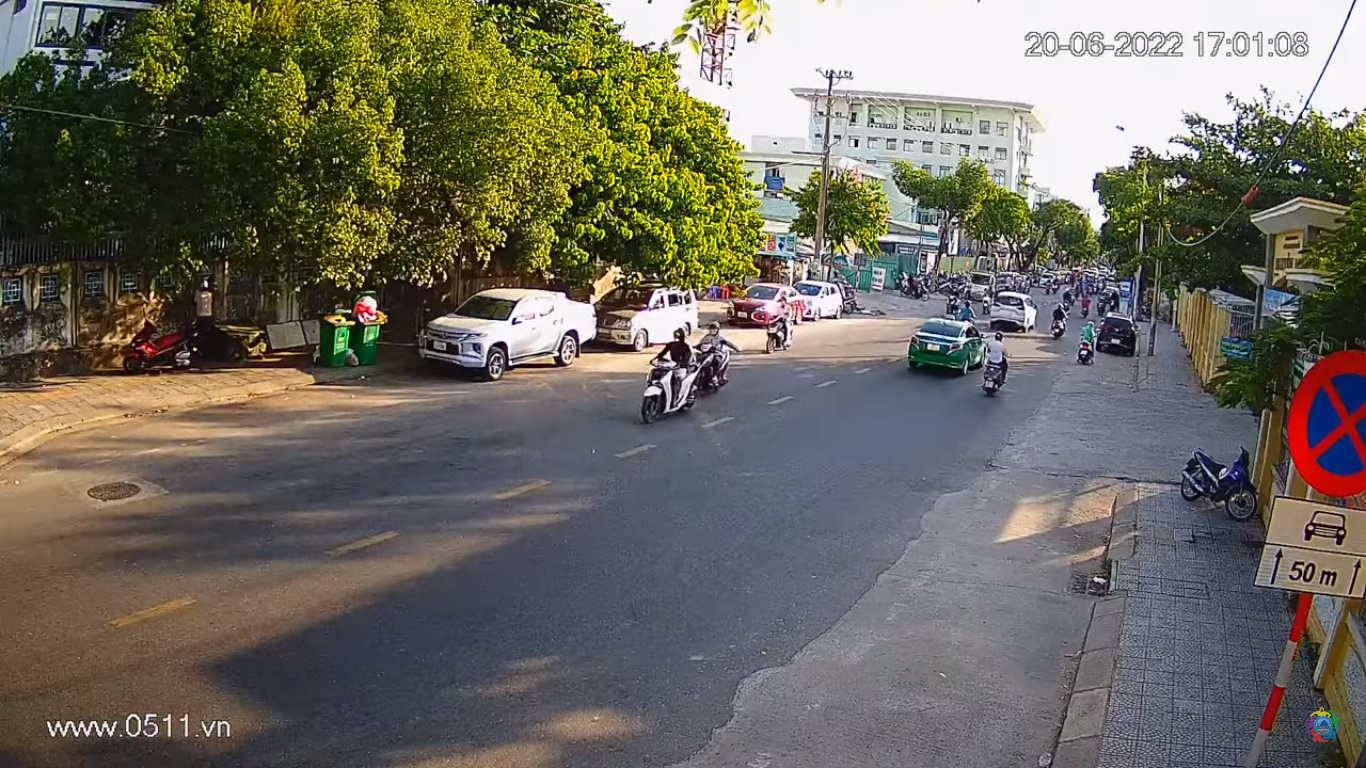car: (907, 319, 987, 370)
